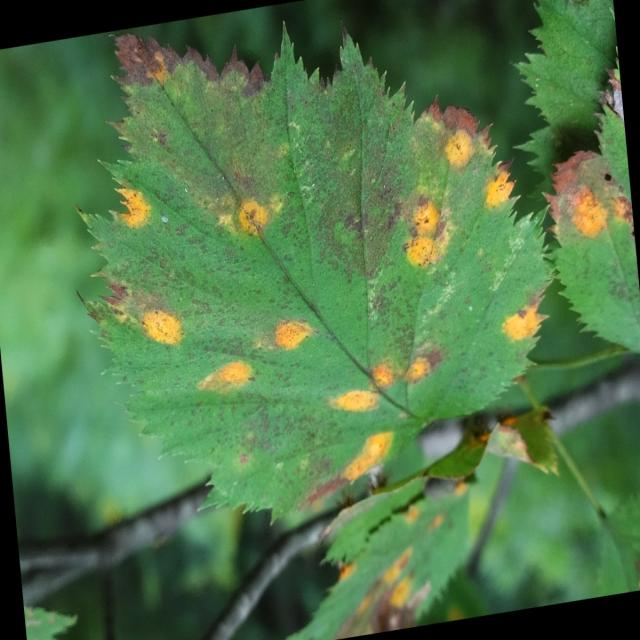Gymnosporangium_Rusts: (74, 19, 559, 527)
